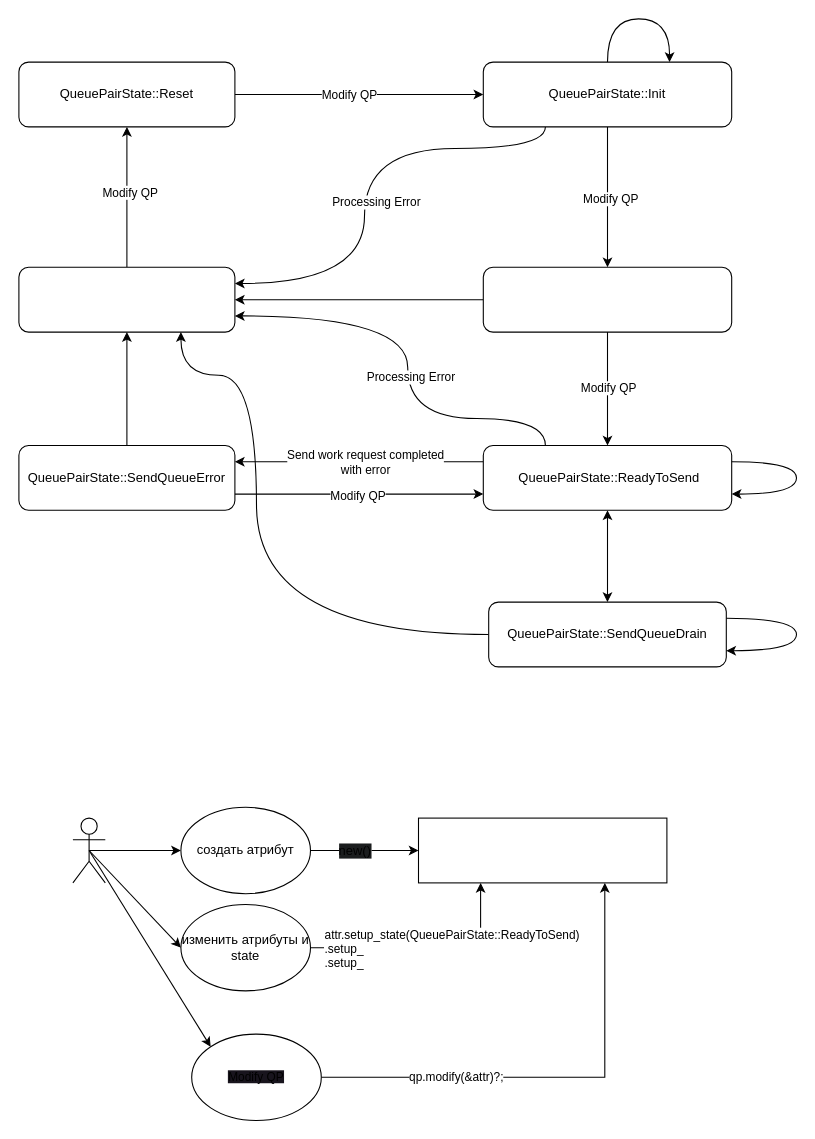
Image size: 815x1139. Some labels were removed from this diagram. The centre of each missing label's shape, as x and y in pixels:
Actor: the point at 88,850
QueuePairAttribute: the point at 542,850
QueuePairState::Error: the point at 126,299
QueuePairState::ReadyToReceive: the point at 607,299
